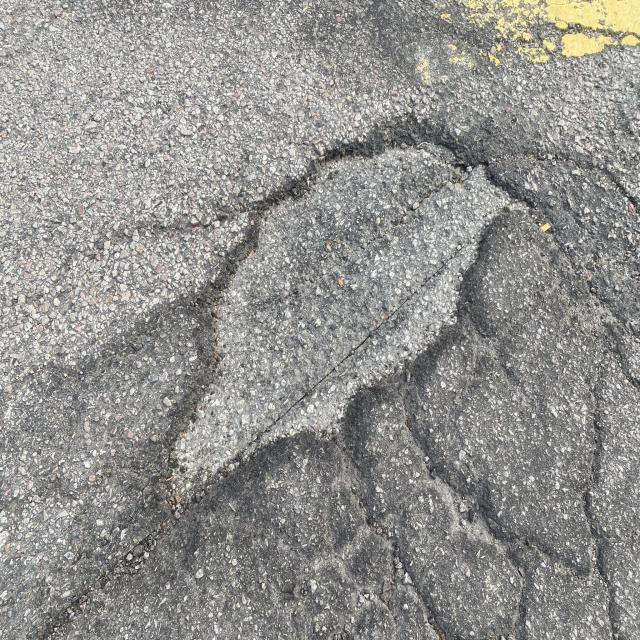pothole: (134, 97, 573, 552)
